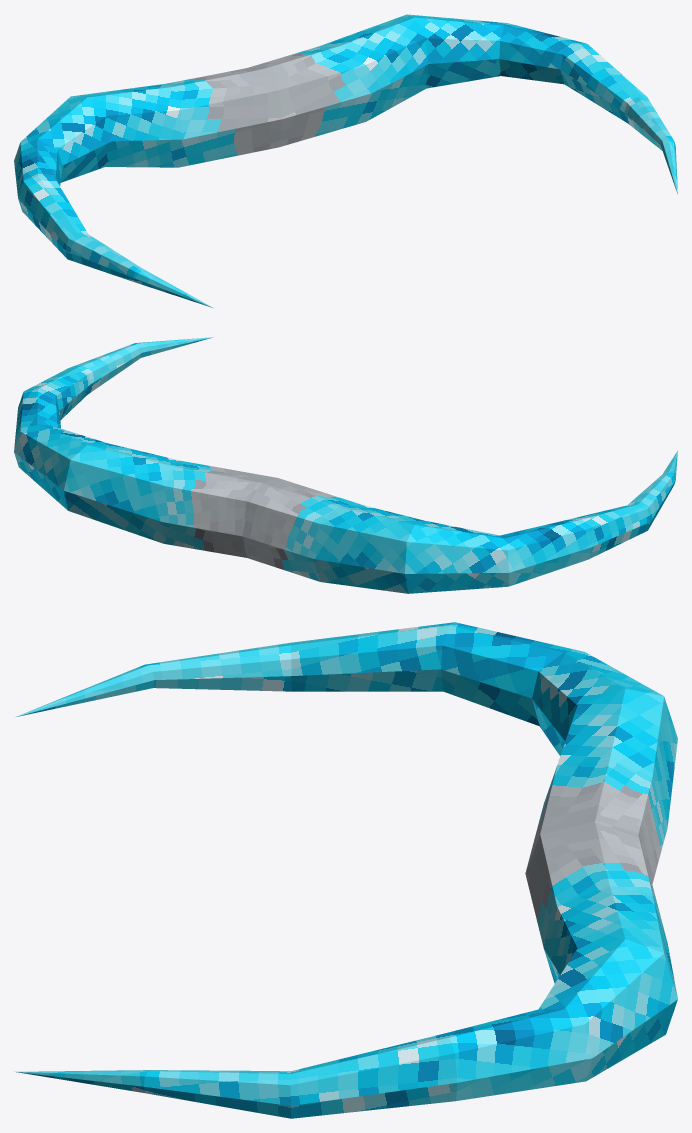
The model's file is reiverhorns.obj.
3 views of the same model, one above another, from view 1: azimuth 30°, elevation 25°; view 2: azimuth 150°, elevation 25°; view 3: azimuth 270°, elevation 25° (orthographic). The views are drawn at different scales.
Visible parts, largest first — view 1: Base; view 2: Base; view 3: Base.
Boxes of the visible parts, box(x1,y1,x2,y2) form: Base: box(14, 14, 677, 308); Base: box(14, 337, 677, 593); Base: box(14, 622, 677, 1118).
Size of the model in its own units: 1.06 by 0.1387 by 0.6666.
